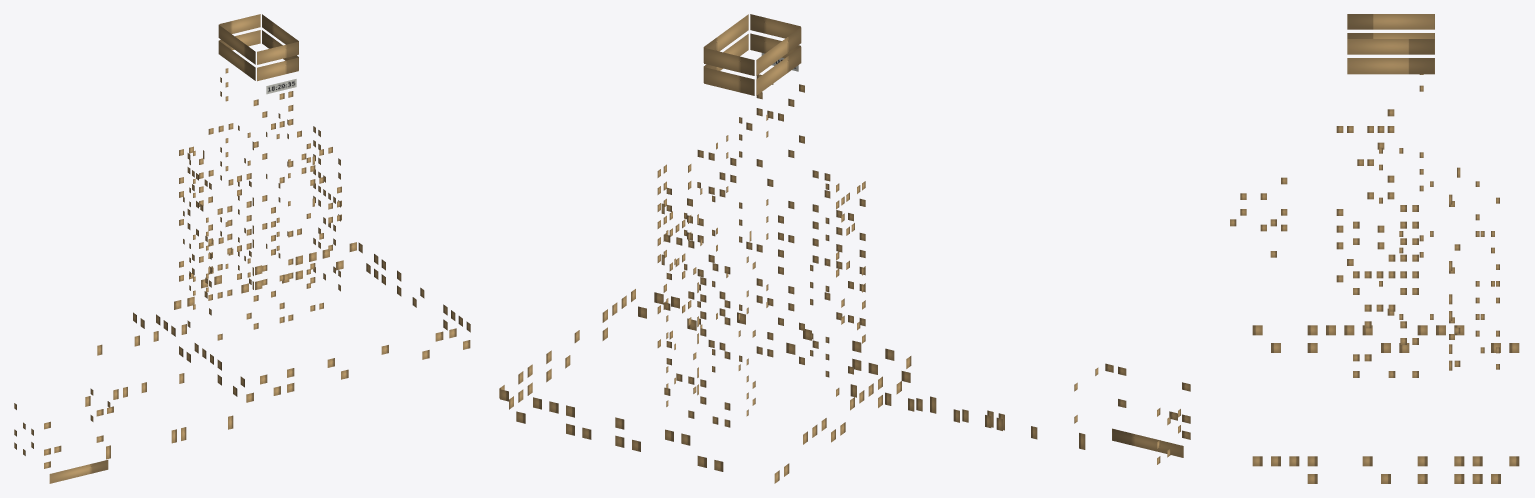
Rendered from satu_mare_lights.obj.
3 views of the same model, side by side, from view 1: azimuth 30°, elevation 25°; view 2: azimuth 150°, elevation 25°; view 3: azimuth 270°, elevation 25° (orthographic). The views are drawn at different scales.
Parts seen in each view (by area): view 1: Lit_WindowLit; view 2: Lit_WindowLit; view 3: Lit_WindowLit.
Boxes of the visible parts, x1,y1,x2,y2 form: Lit_WindowLit: (14,14,470,483); Lit_WindowLit: (499,14,1190,483); Lit_WindowLit: (1230,14,1519,483).
Bounding box in the file's own units: 119 × 85.25 × 59.16.
2 materials, 2 textured.
